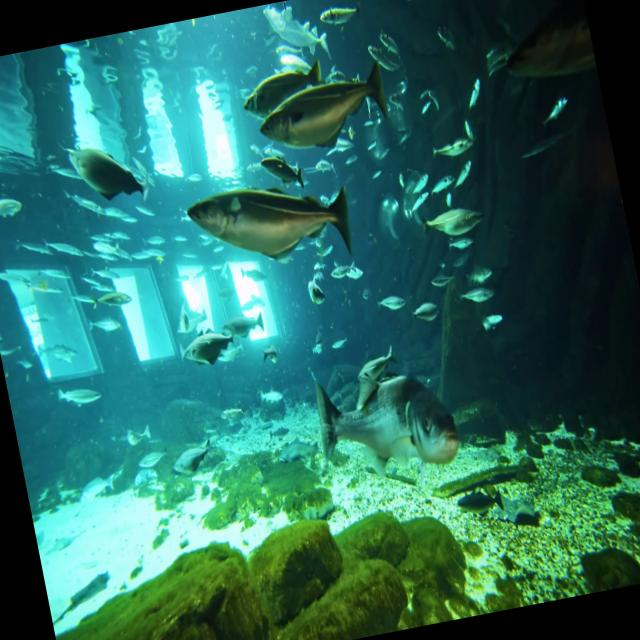fish: (310, 359, 462, 485), (184, 171, 356, 281), (250, 60, 396, 159), (63, 132, 149, 217), (238, 56, 334, 126), (181, 326, 238, 376), (421, 201, 488, 240), (168, 438, 216, 478), (0, 190, 26, 226)
